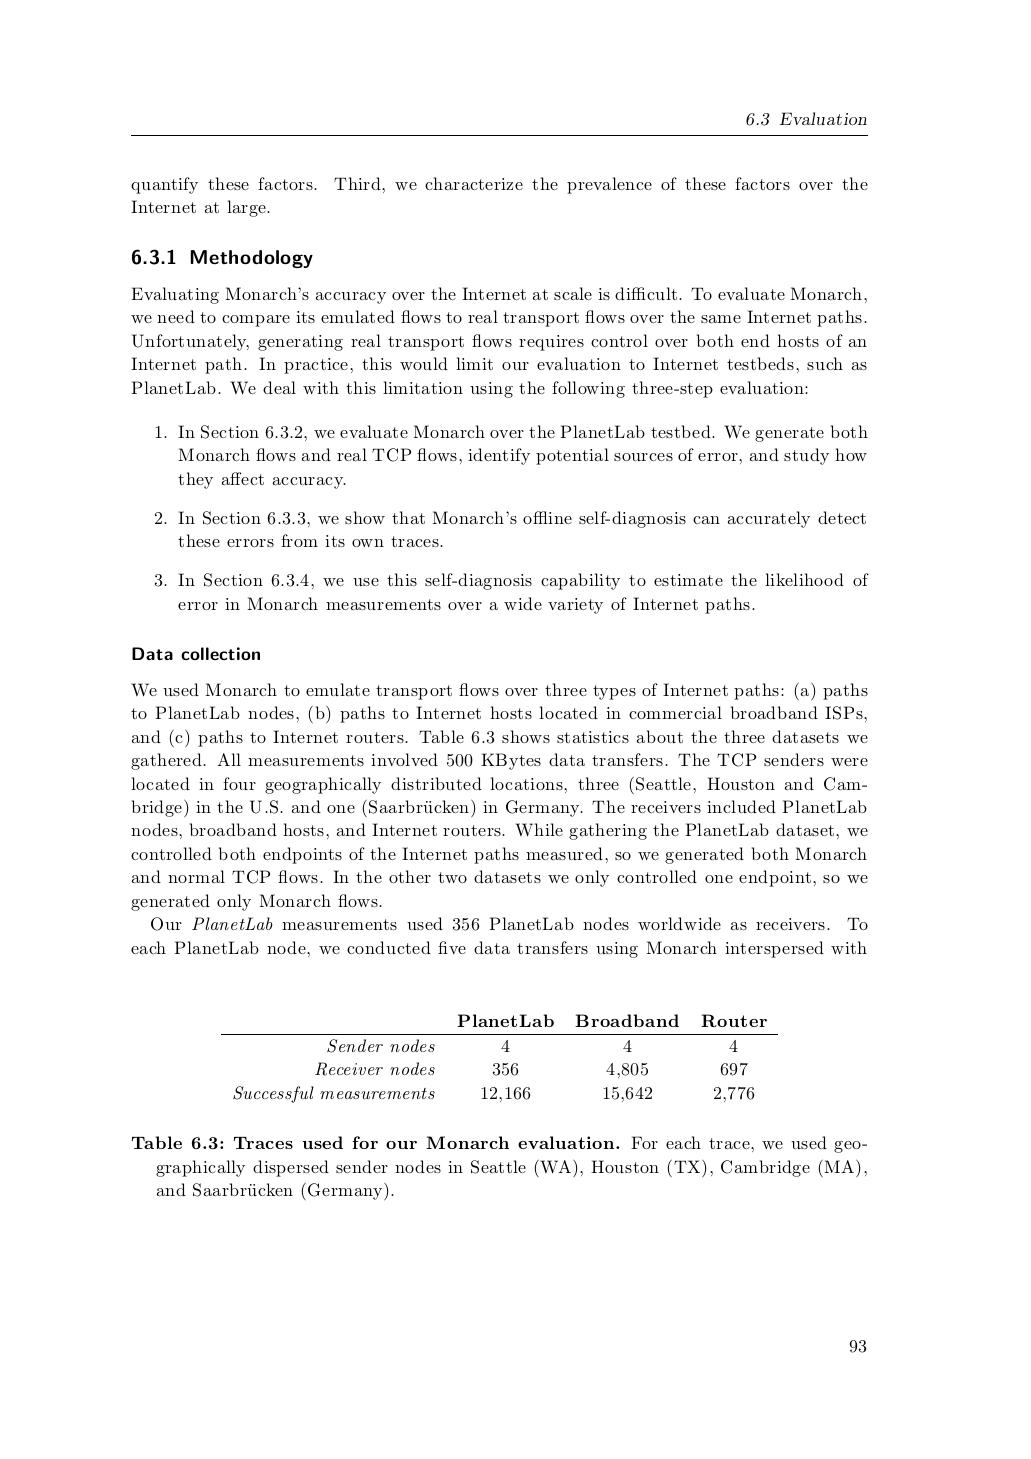Table: (221, 1014, 777, 1102)
